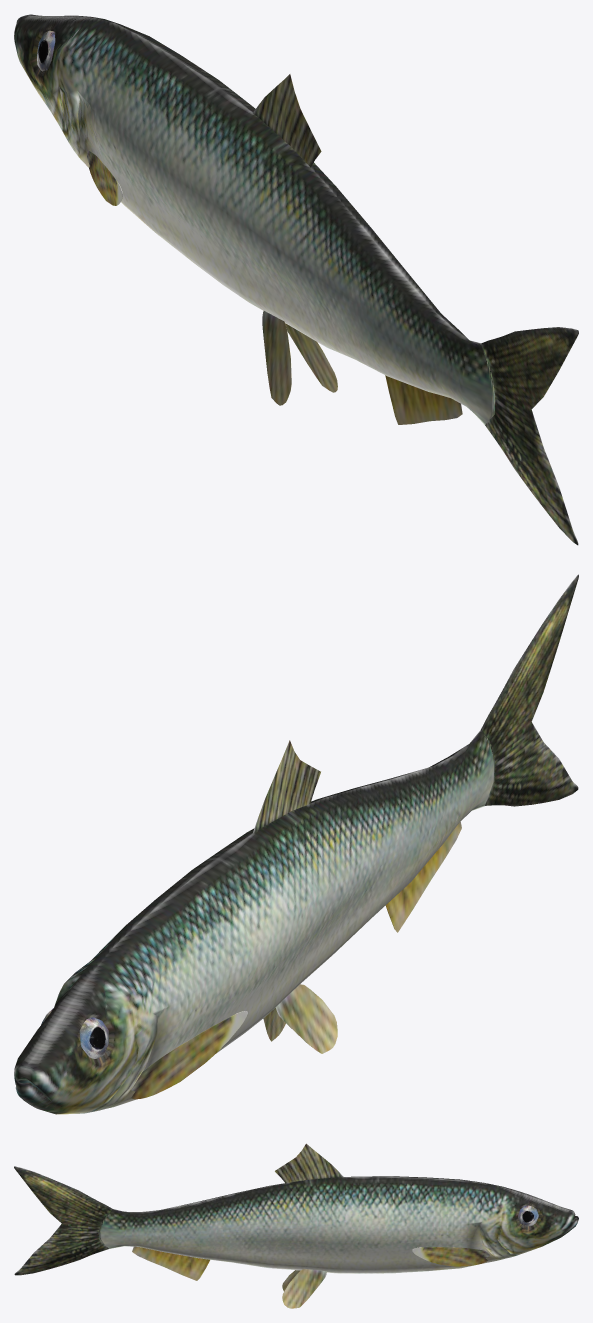
The model's file is silakka_-_stromming_-_baltic_herring.glb.
3 renders of one model, top to bottom at view 1: azimuth 30°, elevation 25°; view 2: azimuth 150°, elevation 25°; view 3: azimuth 270°, elevation 25°, orthographic. The views are drawn at different scales.
Visible parts, largest first — view 1: Plane, Plane.005, Plane.003, Plane.001, Plane.002, Plane.004; view 2: Plane, Plane.005, Plane.004, Plane.003, Plane.001, Plane.002, Icosphere; view 3: Plane, Plane.005, Plane.001, Plane.002, Plane.003, Plane.004, Icosphere.
Part boxes in pixels (<box>): Plane: <box>14,14,495,424</box>; Plane.005: <box>481,327,578,545</box>; Plane.003: <box>262,311,337,405</box>; Plane.001: <box>253,74,321,167</box>; Plane.002: <box>385,375,462,424</box>; Plane.004: <box>87,150,122,205</box>; Plane: <box>14,730,495,1114</box>; Plane.005: <box>481,574,578,806</box>; Plane.004: <box>130,1011,247,1099</box>; Plane.003: <box>263,984,337,1053</box>; Plane.001: <box>252,740,320,833</box>; Plane.002: <box>385,822,461,932</box>; Icosphere: <box>41,1008,108,1058</box>; Plane: <box>98,1176,578,1273</box>; Plane.005: <box>14,1166,112,1275</box>; Plane.001: <box>275,1143,343,1183</box>; Plane.002: <box>132,1246,209,1280</box>; Plane.003: <box>282,1268,326,1308</box>; Plane.004: <box>412,1247,489,1266</box>; Icosphere: <box>518,1205,538,1226</box>.
Size of the model in its own units: 1.23 by 2.92 by 9.43.
Materials: 7 (7 with a texture image).
